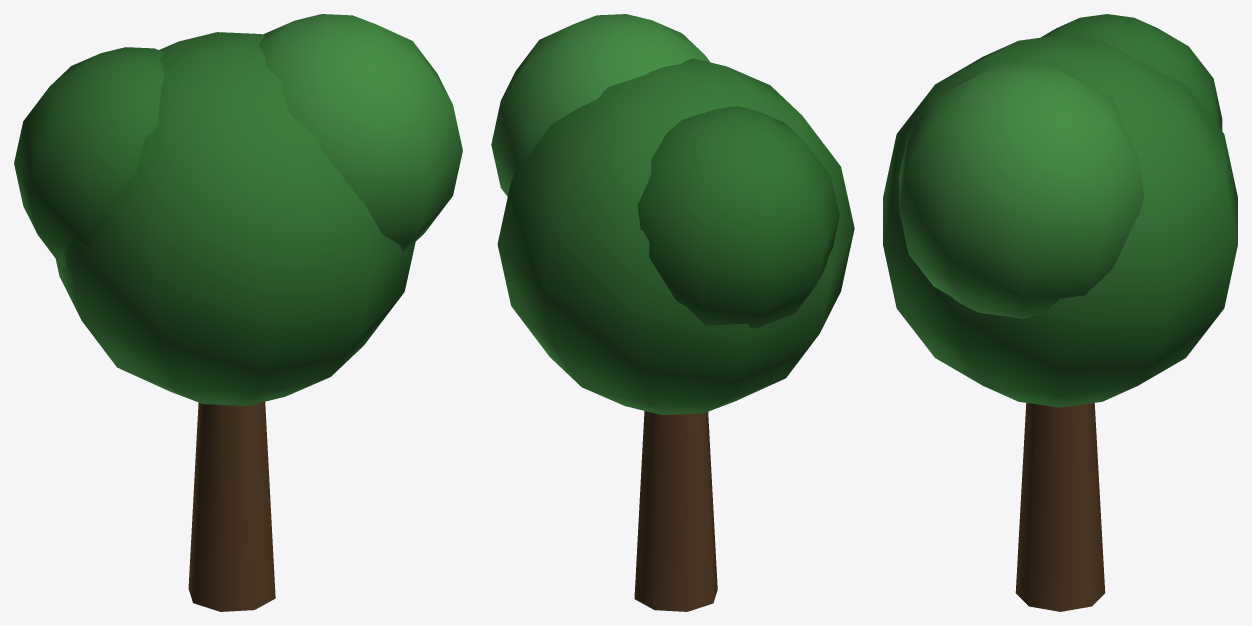
Rendered from tree.glb.
3 renders of one model, left to right at view 1: azimuth 30°, elevation 25°; view 2: azimuth 150°, elevation 25°; view 3: azimuth 270°, elevation 25°, orthographic. The views are drawn at different scales.
Visible parts, largest first — view 1: tree; view 2: tree; view 3: tree.
Boxes of the visible parts, x1,y1,x2,y2 form: tree: [14, 14, 462, 611]; tree: [491, 14, 854, 611]; tree: [883, 14, 1237, 611].
Size of the model in its own units: 2.3 by 3.3 by 1.9.
